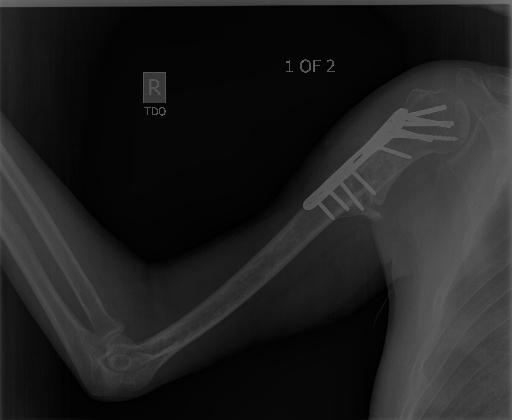implant: (303, 104, 457, 219)
